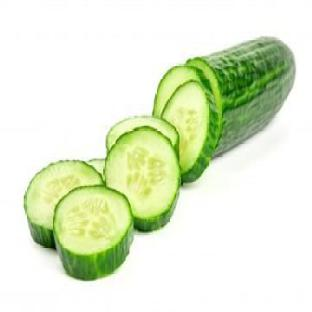Cucumber: (157, 38, 295, 181), (105, 127, 180, 231), (53, 186, 133, 279), (25, 160, 103, 248), (106, 116, 179, 153), (153, 66, 199, 117), (87, 159, 104, 180)
